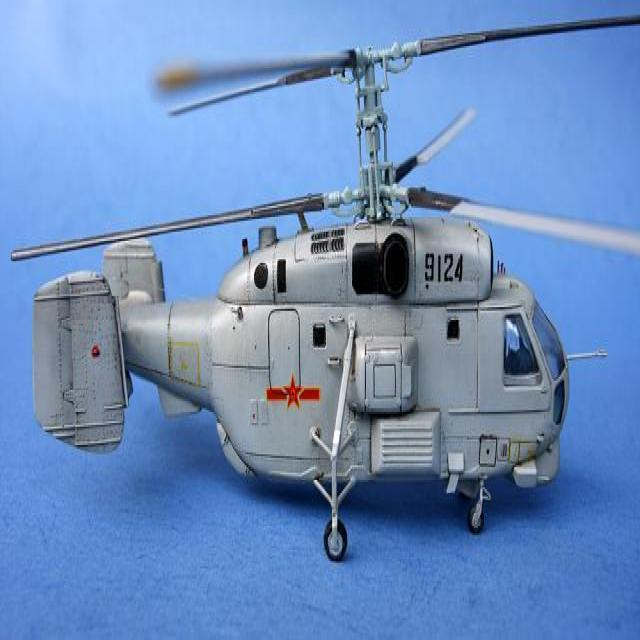MIL_HELO: (5, 18, 640, 550)
